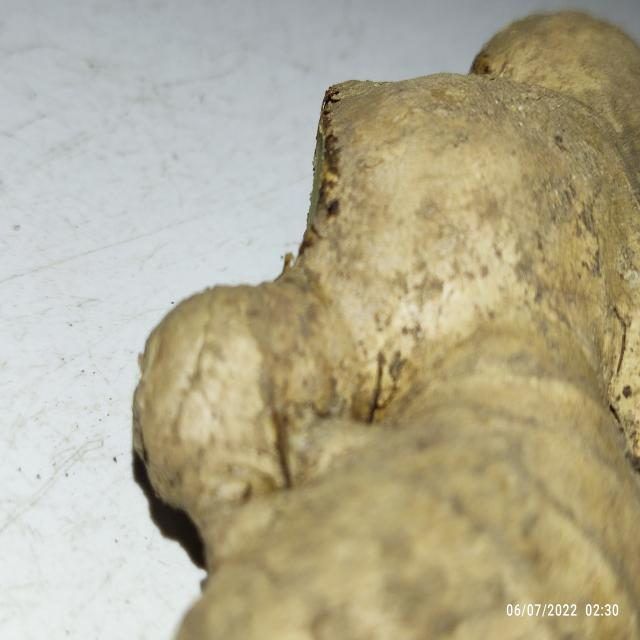ginger: (143, 18, 640, 640)
